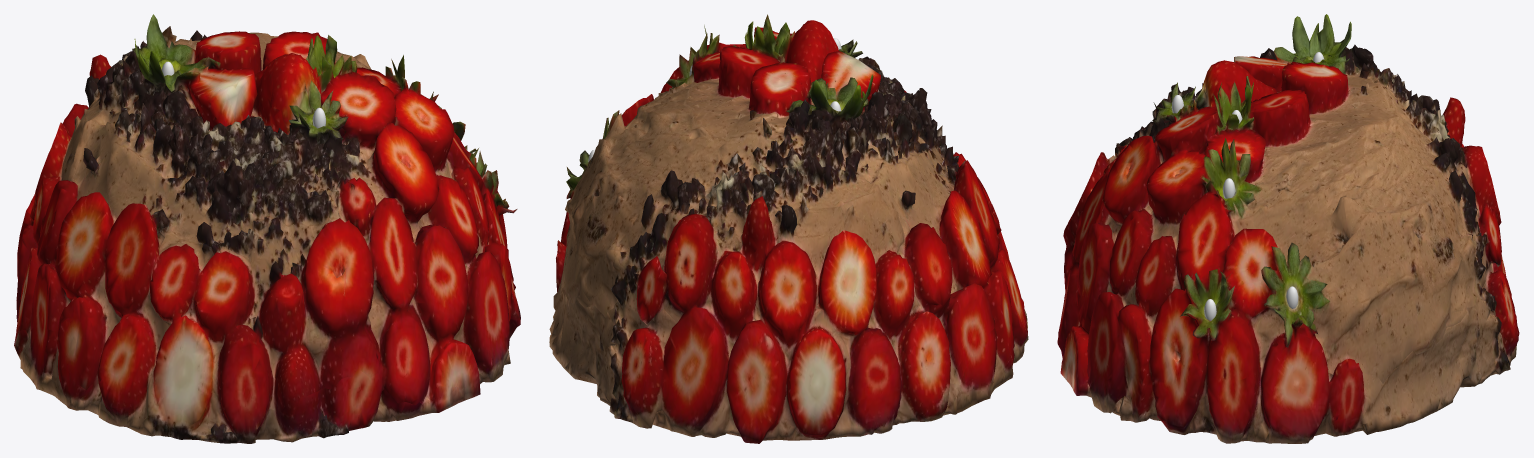
Rendered from cake.glb.
3 views of the same model, side by side, from view 1: azimuth 30°, elevation 25°; view 2: azimuth 150°, elevation 25°; view 3: azimuth 270°, elevation 25° (orthographic). The views are drawn at different scales.
Parts seen in each view (by area): view 1: strawberry_chocolate_cake.001; view 2: strawberry_chocolate_cake.001; view 3: strawberry_chocolate_cake.001.
Boxes of the visible parts, box(x1,y1,x2,y2) form: strawberry_chocolate_cake.001: box(14, 14, 520, 443); strawberry_chocolate_cake.001: box(549, 14, 1028, 443); strawberry_chocolate_cake.001: box(1057, 14, 1519, 443).
Size of the model in its own units: 5.66 by 3.9 by 5.56.
Materials: 1 (1 with a texture image).
